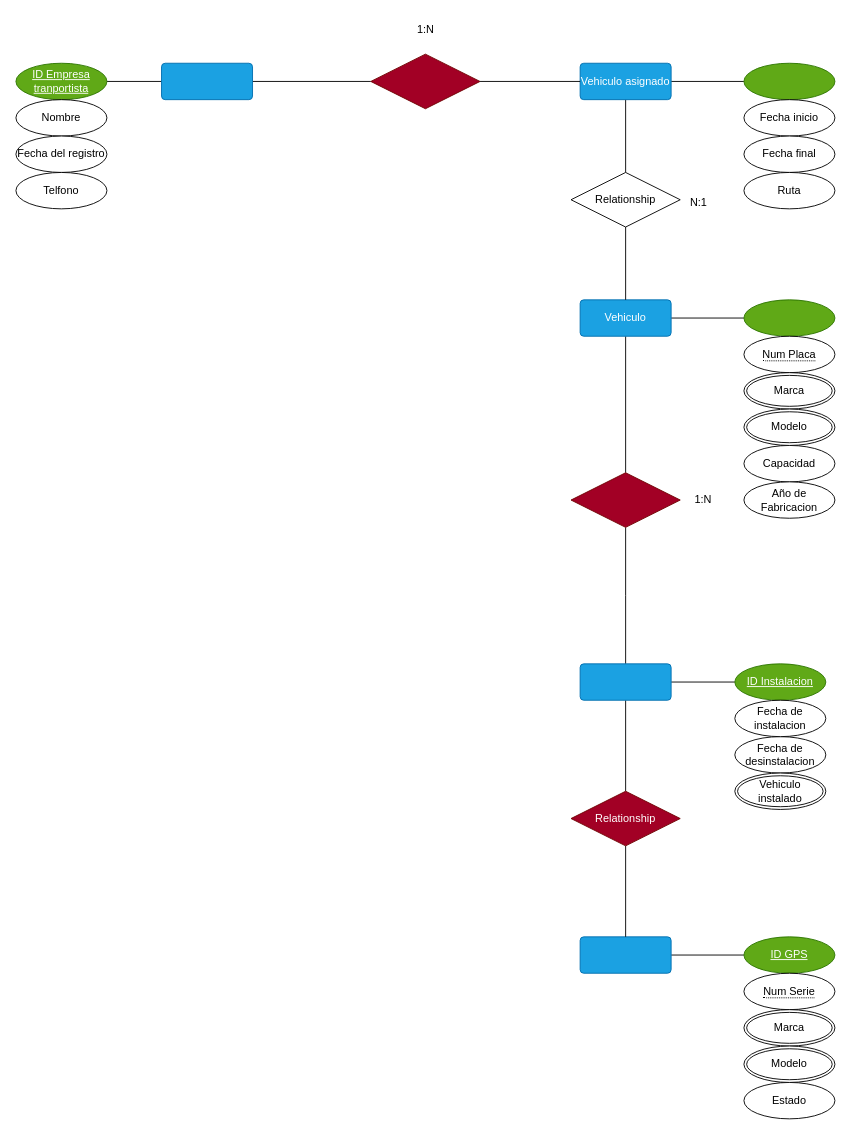
The diagram is 851 pixels wide and 1135 high, and some of its shapes have lost their labels. Each missing label, with the box of its shape:
Empresa tansportista: (161, 62, 253, 100)
GPS: (579, 936, 671, 973)
ID de vehiculo asignado: (743, 62, 835, 100)
ID Vehiculo: (743, 299, 835, 336)
Intalacion: (579, 663, 671, 700)
Posee: (570, 472, 680, 527)
Tiene: (370, 53, 480, 109)
